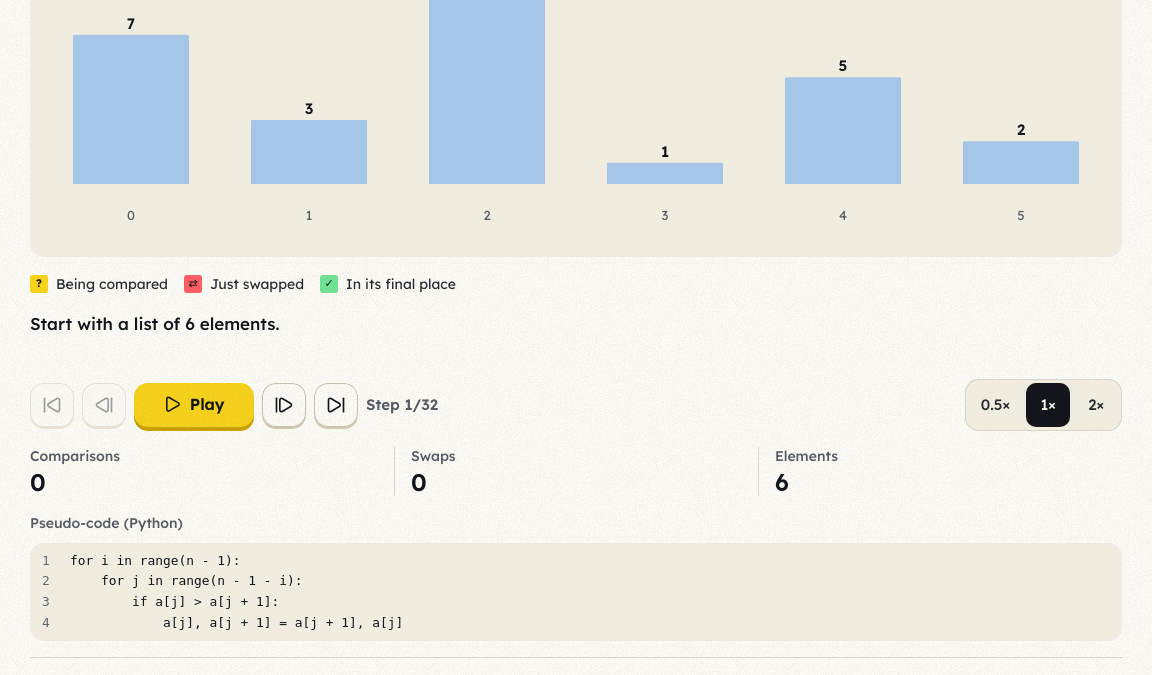
Test: sorting › steps through comparisons and swaps with counters and pseudo-code
(page scrolled)
Click the button named "Next step" at (284, 405), box left=262, top=383, right=306, bottom=427
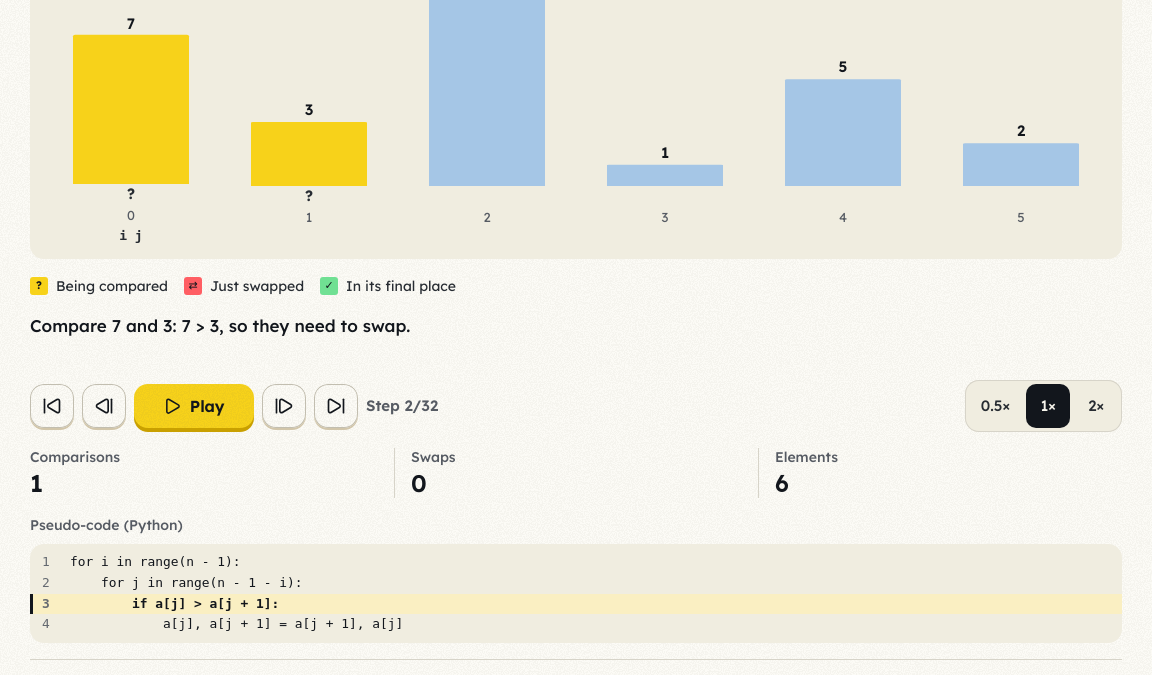
Expected: the element with class "current" shows "if a[j] > a[j + 1]:", left=70, top=596, right=279, bottom=610
Now the text with class "alg-msg" reads "Compare 7 and 3: 7 > 3, so they need to swap.", box left=30, top=315, right=410, bottom=336
Click the button named "Next step" at (284, 406), box left=262, top=384, right=306, bottom=428
(page scrolled)
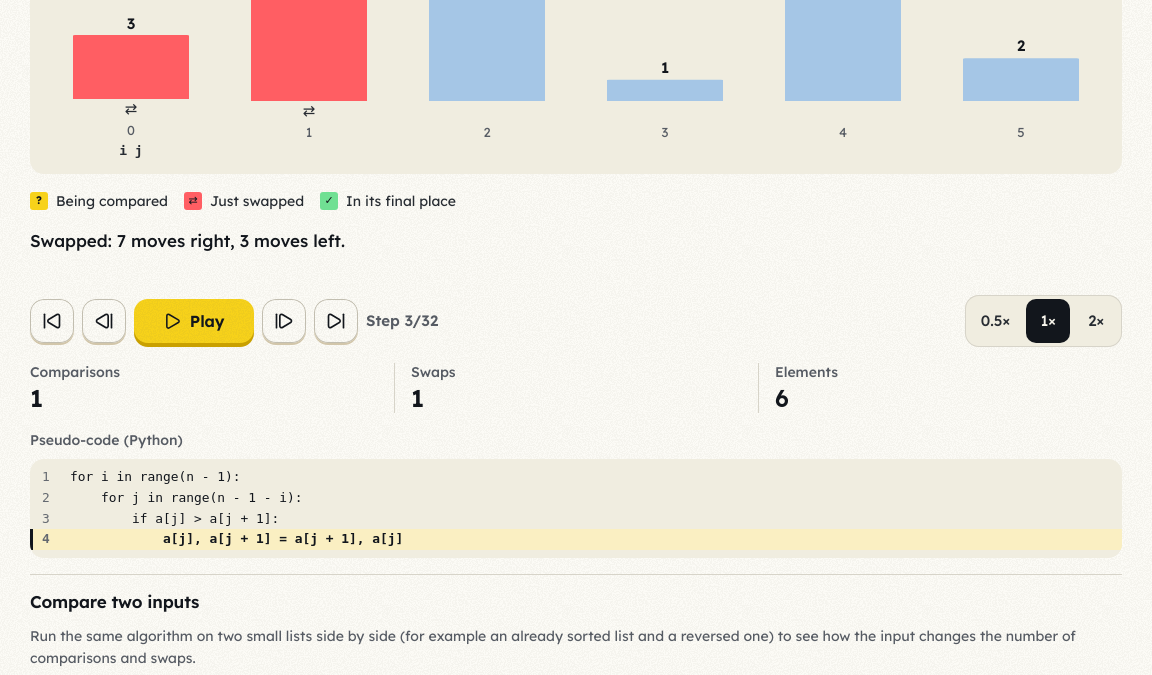
Now the text with class "alg-msg" reads "Swapped: 7 moves right, 3 moves left.", box left=30, top=230, right=345, bottom=251
Click the button named "Last step" at (336, 321), box left=314, top=299, right=358, bottom=343
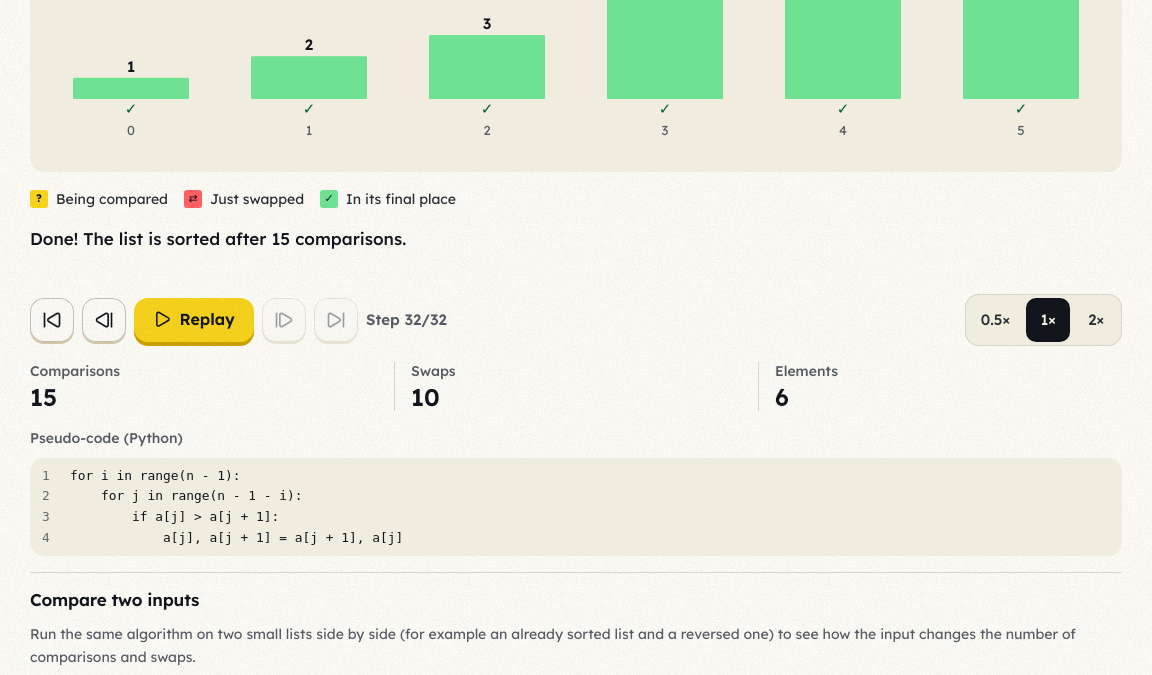
Now the text with class "alg-msg" reads "Done! The list is sorted after 15 comparisons.", box left=30, top=228, right=406, bottom=250
